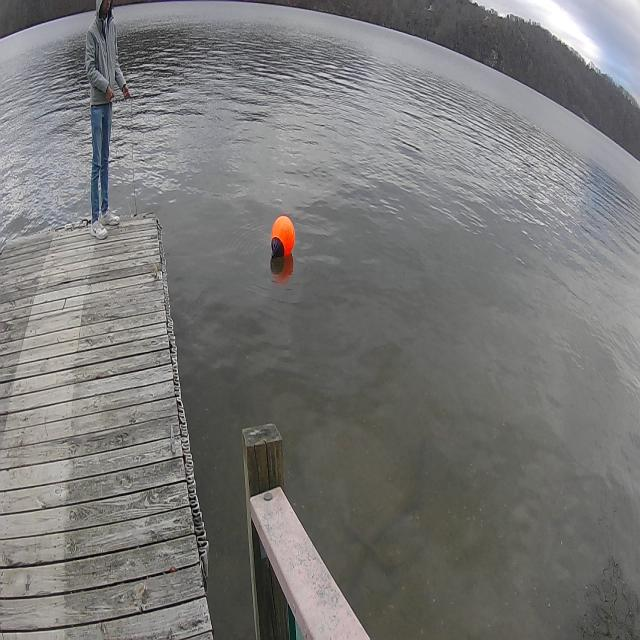Buoy: (267, 209, 298, 271)
